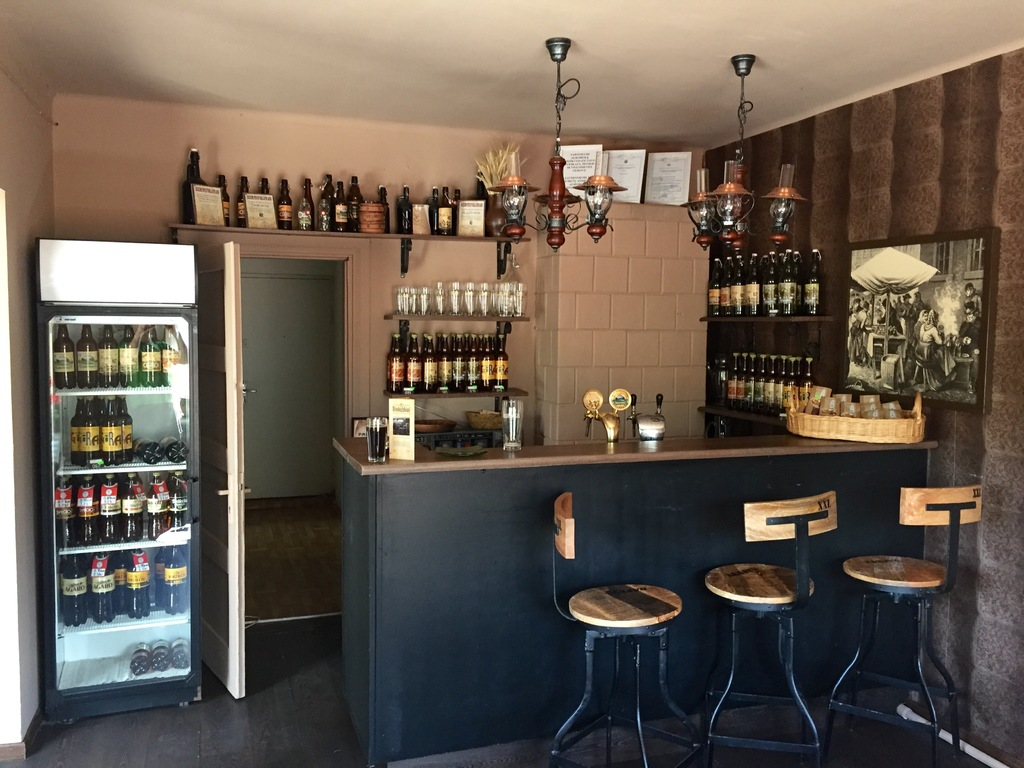door: (205, 254, 243, 686)
handle: (222, 477, 253, 509)
refrigerator door: (46, 317, 189, 694)
